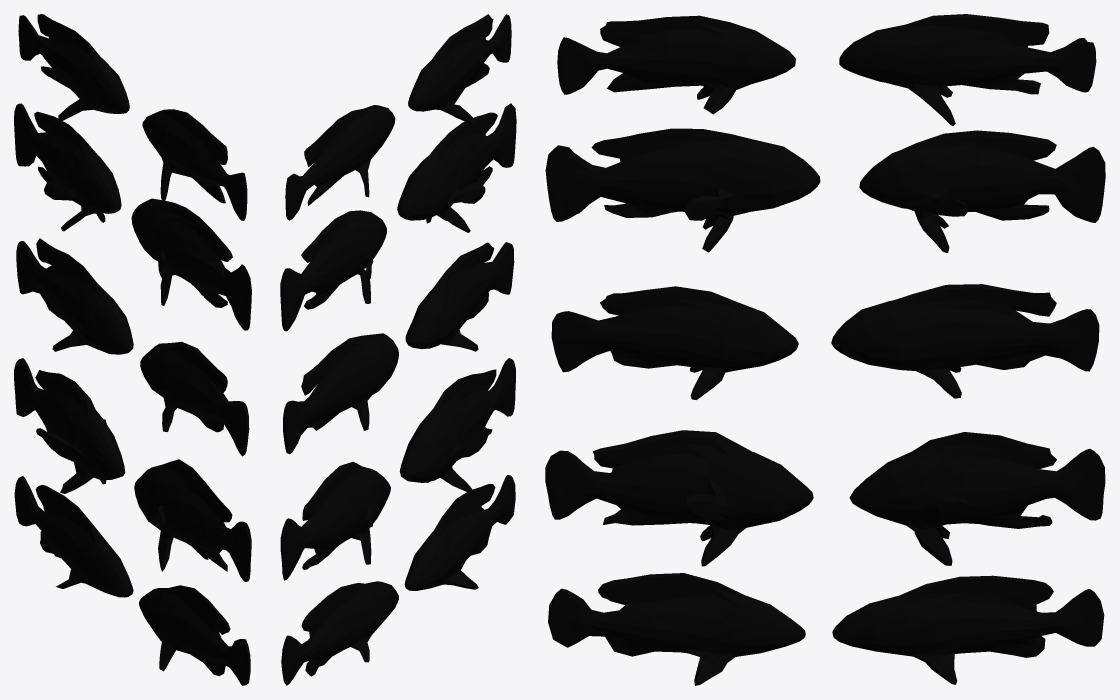
The picture shows the model from 3 angles, left to right: view 1: azimuth 30°, elevation 25°; view 2: azimuth 150°, elevation 25°; view 3: azimuth 270°, elevation 25°; orthographic projection. The views are drawn at different scales.
Visible parts, largest first — view 1: tripo_node_59651e0b-de06-4188-8101-87292d39d980_0; view 2: tripo_node_59651e0b-de06-4188-8101-87292d39d980_0; view 3: tripo_node_59651e0b-de06-4188-8101-87292d39d980_0.
Part boxes in pixels (x1,y1,x2,y2): tripo_node_59651e0b-de06-4188-8101-87292d39d980_0: [14, 14, 251, 685]; tripo_node_59651e0b-de06-4188-8101-87292d39d980_0: [280, 14, 516, 685]; tripo_node_59651e0b-de06-4188-8101-87292d39d980_0: [545, 14, 1105, 685].
Bounding box in the file's own units: 0.112 × 0.9431 × 0.7299.
Materials: 1 (1 with a texture image).
